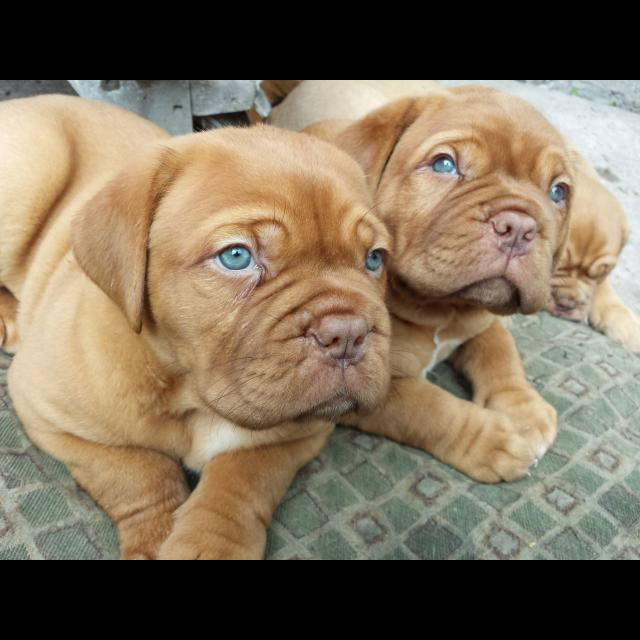dogue_de_bordeaux: (3, 97, 388, 562), (257, 82, 640, 485)
